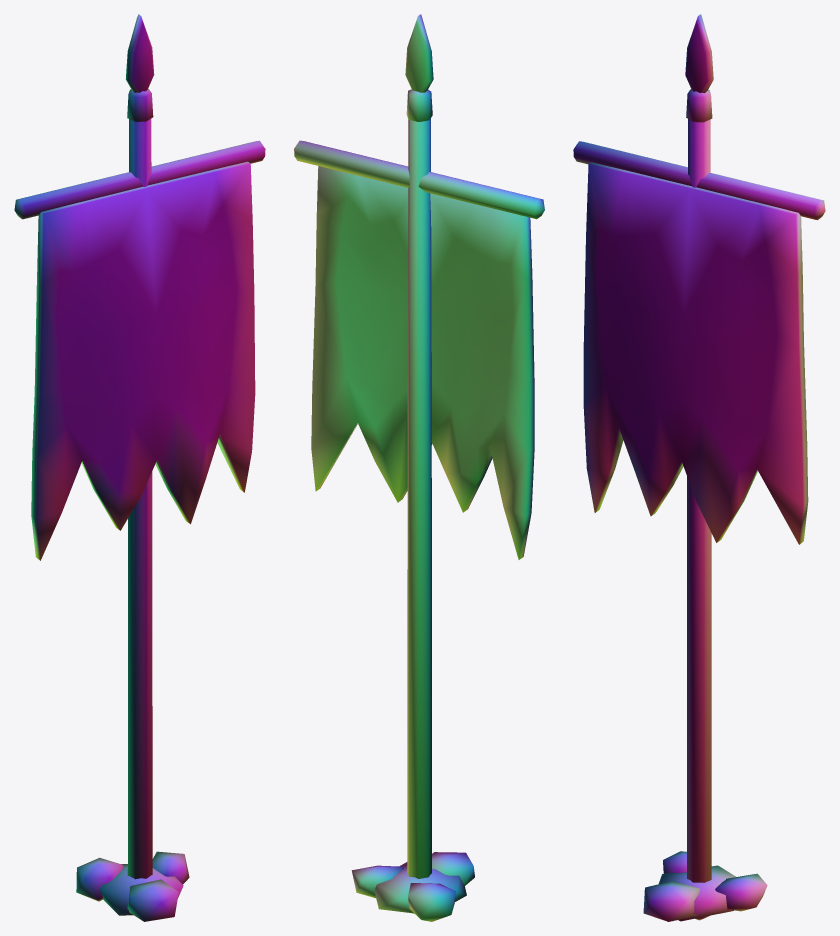
The model's file is SM_Prop_March_RingBanner_A_LOD1.fbx.
3 views of the same model, side by side, from view 1: azimuth 30°, elevation 25°; view 2: azimuth 150°, elevation 25°; view 3: azimuth 330°, elevation 25° (orthographic).
Visible parts, largest first — view 1: SM_Prop_March_RingBanner_A_LOD1; view 2: SM_Prop_March_RingBanner_A_LOD1; view 3: SM_Prop_March_RingBanner_A_LOD1.
Boxes of the visible parts, box(x1,y1,x2,y2) form: SM_Prop_March_RingBanner_A_LOD1: box(14, 14, 265, 921); SM_Prop_March_RingBanner_A_LOD1: box(294, 14, 544, 921); SM_Prop_March_RingBanner_A_LOD1: box(573, 14, 825, 921).
Bounding box in the file's own units: 0.8914 × 3.06 × 0.3754.
